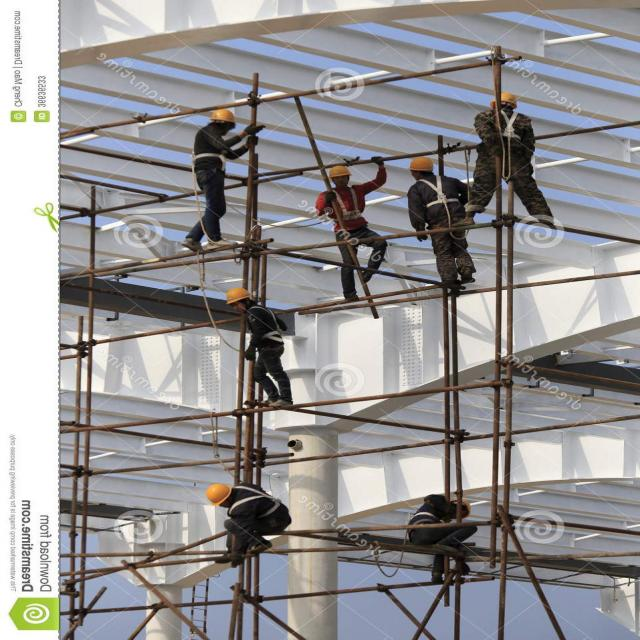Reflective-Jacket: (326, 186, 365, 228), (412, 178, 447, 212)
Safety-Helmet: (203, 482, 232, 505), (224, 286, 251, 304), (209, 108, 237, 124), (408, 156, 433, 171), (327, 165, 351, 178), (499, 92, 517, 104)
